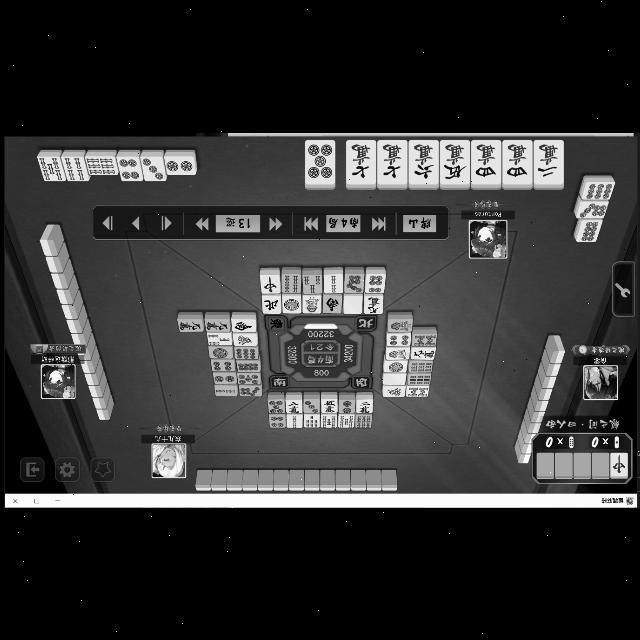1p: (282, 294, 300, 312), (383, 361, 407, 374), (208, 347, 232, 358)
1s: (301, 294, 321, 314), (388, 318, 412, 332), (385, 346, 409, 359)
2m: (534, 140, 562, 183), (356, 399, 372, 413)
2p: (164, 156, 196, 174), (212, 372, 234, 384), (338, 400, 354, 412)
2s: (323, 274, 343, 294), (213, 385, 237, 397), (286, 414, 302, 428)
3p: (138, 157, 166, 181), (303, 398, 319, 414)
3s: (300, 274, 322, 294), (206, 333, 230, 345)
4m: (502, 140, 532, 186), (472, 140, 501, 182)
4p: (116, 156, 142, 182), (210, 358, 232, 372), (386, 334, 410, 346), (268, 414, 284, 428)
4s: (59, 156, 87, 180), (281, 274, 301, 294)
5m: (439, 140, 469, 182), (321, 399, 337, 413)
5p: (304, 140, 334, 184), (238, 372, 260, 386), (267, 399, 283, 413)
5s: (35, 157, 65, 181), (336, 414, 354, 428), (320, 414, 336, 428)
6m: (407, 139, 437, 183)
6p: (365, 274, 385, 294)
6s: (84, 156, 118, 174), (354, 414, 372, 430)
7m: (376, 140, 406, 184), (346, 140, 374, 184)
7p: (575, 203, 607, 219), (343, 274, 363, 292), (239, 385, 261, 397)
7s: (303, 414, 319, 428)
8m: (285, 399, 301, 413)
8p: (576, 220, 602, 242), (236, 360, 260, 372)
8s: (412, 334, 436, 346), (406, 386, 428, 398)
9m: (204, 319, 230, 333), (364, 296, 382, 314), (411, 347, 435, 359), (178, 320, 200, 332)
9p: (580, 182, 614, 200), (235, 346, 258, 359)
9s: (408, 359, 432, 373), (408, 374, 430, 384)
chun: (610, 452, 626, 476), (260, 275, 278, 293)
haku: (343, 294, 361, 314), (382, 372, 404, 386)
hatsu: (234, 332, 256, 346), (382, 386, 404, 396)
nan: (322, 295, 342, 313), (231, 320, 255, 332)
pe: (262, 294, 280, 314)
